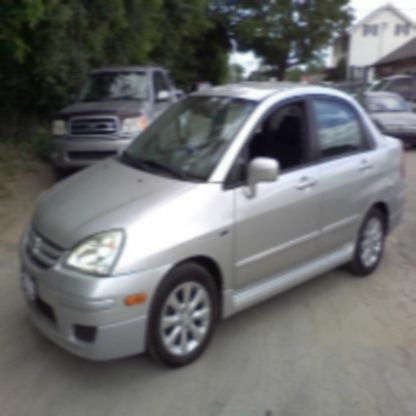Vehicle: (18, 80, 404, 367)
